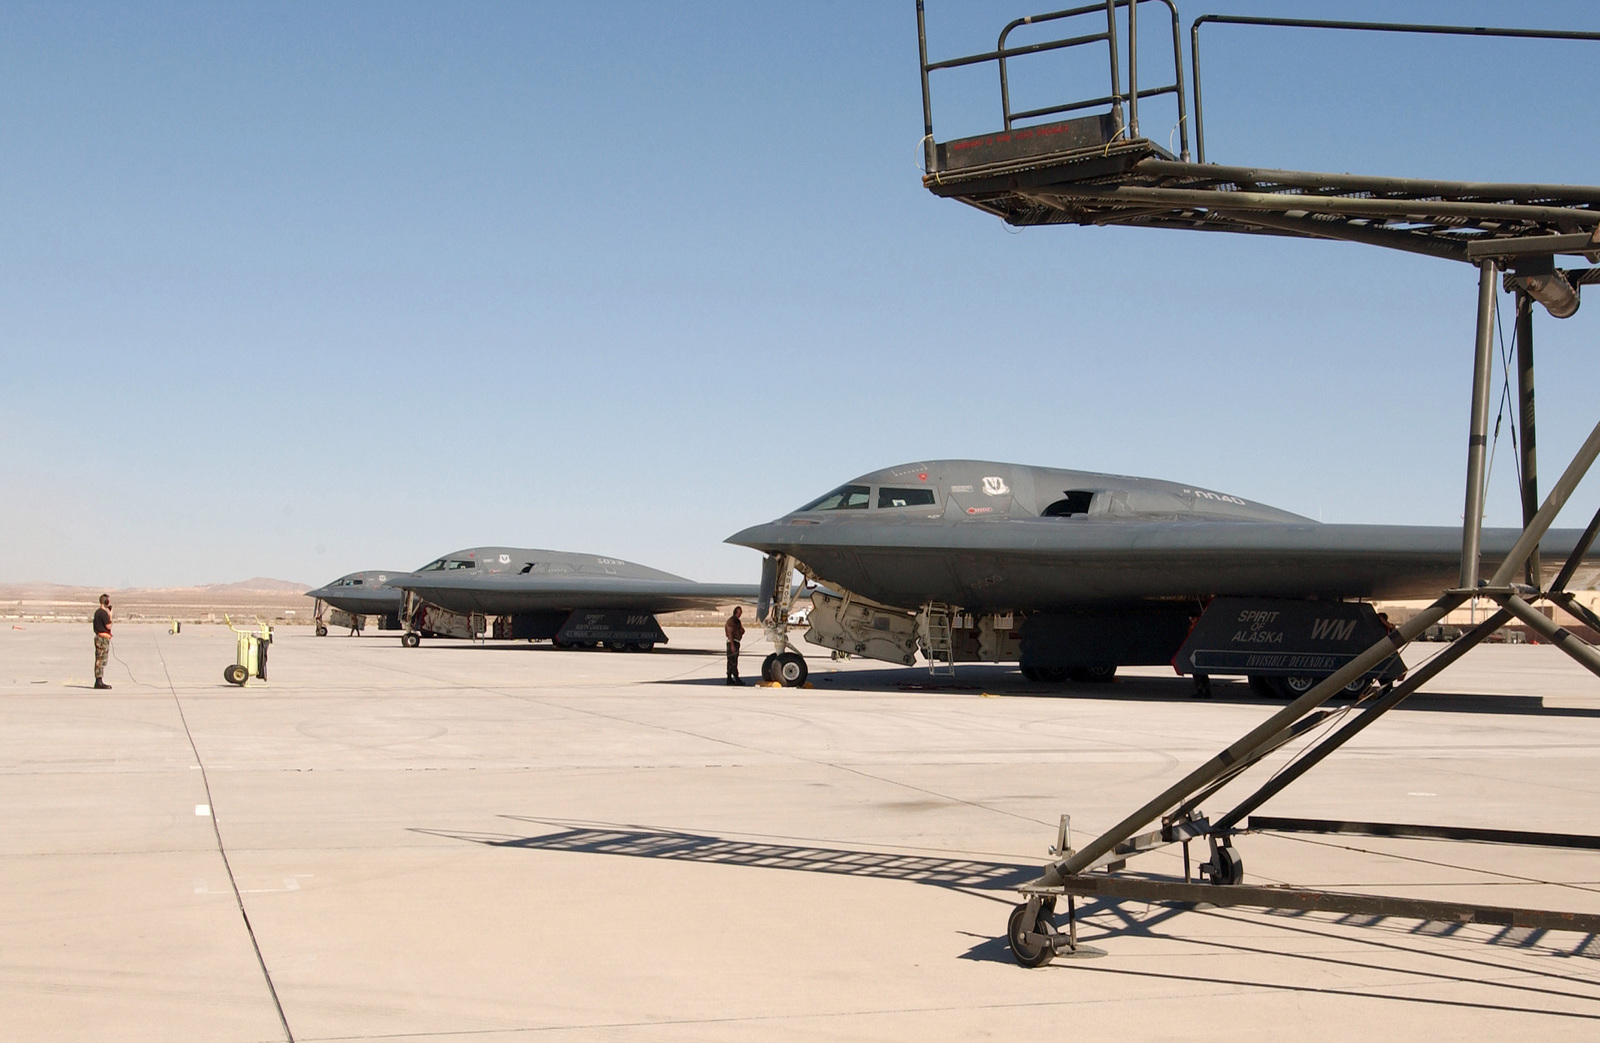B2: (721, 459, 1600, 699), (381, 546, 844, 653), (301, 570, 449, 637)
